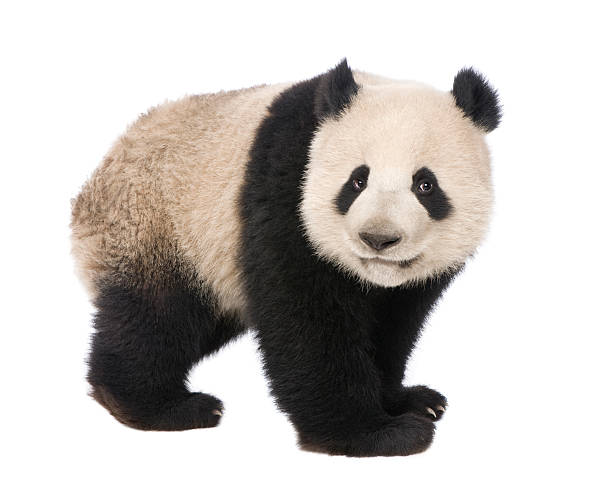panda: (297, 45, 519, 313)
